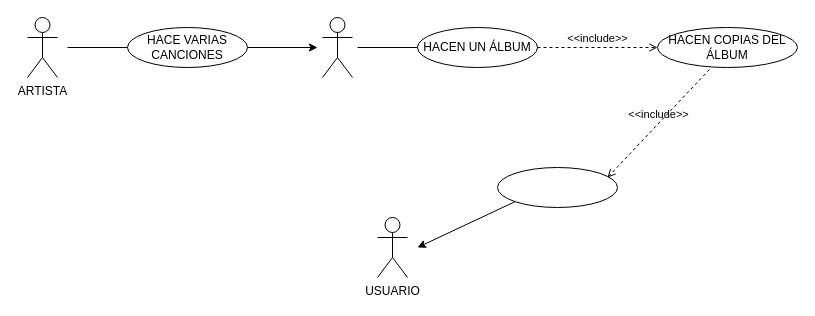
The diagram is 815 pixels wide and 316 high, and some of its shapes have lost their labels. The centre of each missing label's shape, as x and y in pixels:
"DISCOGRAFICA" belongs at (337,47).
"SE PONEN A LA VENTA" belongs at (557,187).
